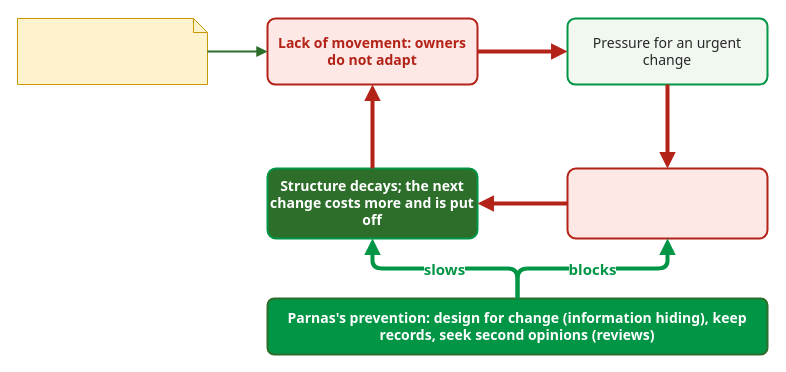
This 786x372 diagram has some shape labels left out. The shapes that lost their labels are listed below. From the top down, each one's centre as x and y in pixels, then its label:
(x=112, y=51): Environment changes: laws, platforms, business
(x=667, y=203): Ignorant surgery: change made without the design
